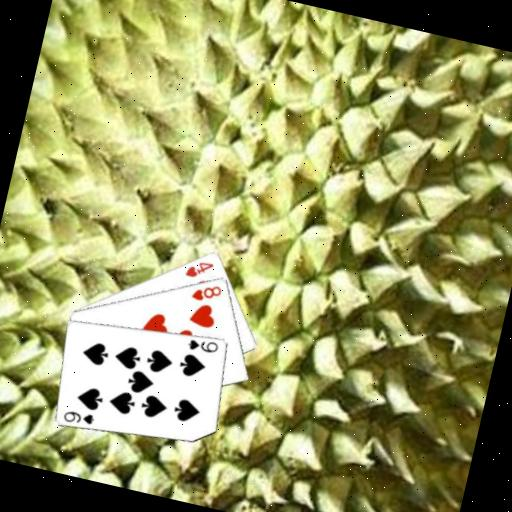4H: (181, 254, 216, 283)
8H: (188, 277, 225, 307)
9S: (60, 405, 98, 429), (184, 333, 221, 357)
